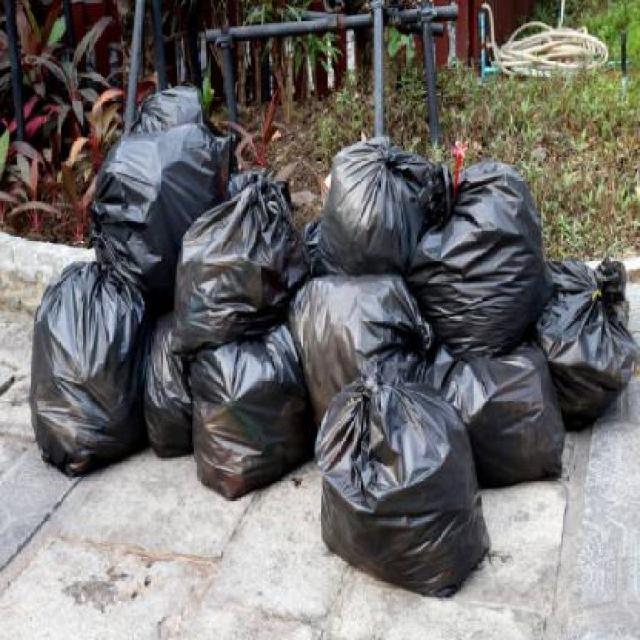Garbage_Bag: (312, 368, 494, 604), (26, 248, 152, 483)
